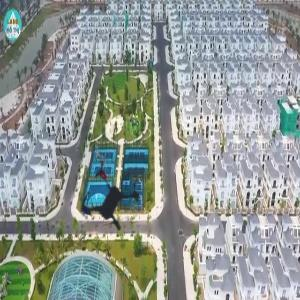drone: (43, 130, 187, 274)
